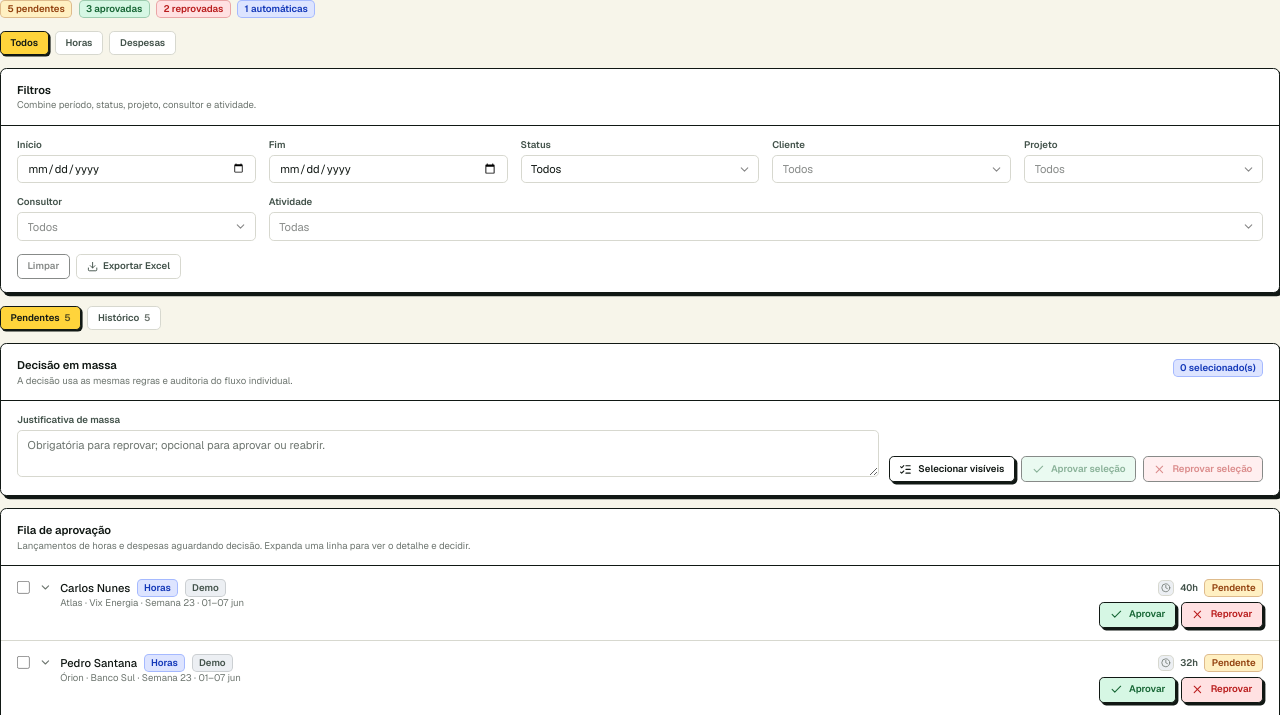
Test: ApprovalQueue › filters the queue by kind (horas vs despesas)
Expected: the text "5 pendentes" is shown, 0,0 -> 72,18
What coordinates should you click on to do the following:
click the button "Despesas"
I would click on:
 (143, 43)
Its box is 109,31 -> 176,55.
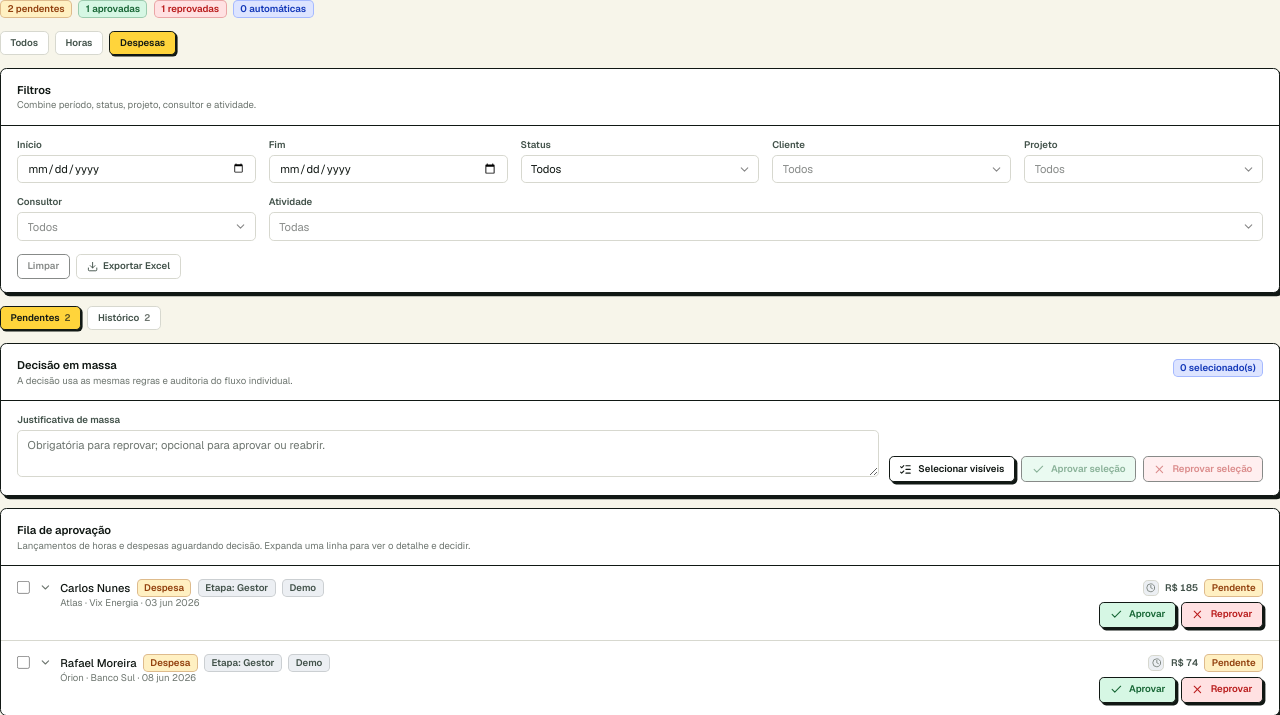
Expected: the text "2 pendentes" is shown, 0,0 -> 72,18
